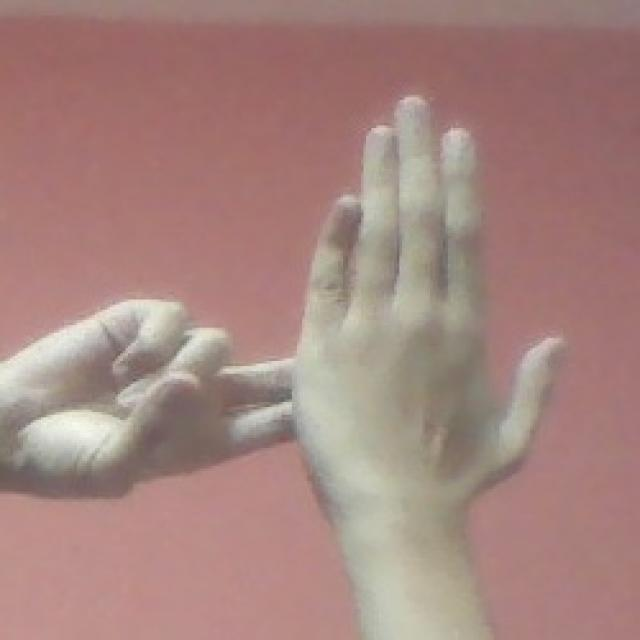Alphabet-N: (4, 82, 595, 509)
